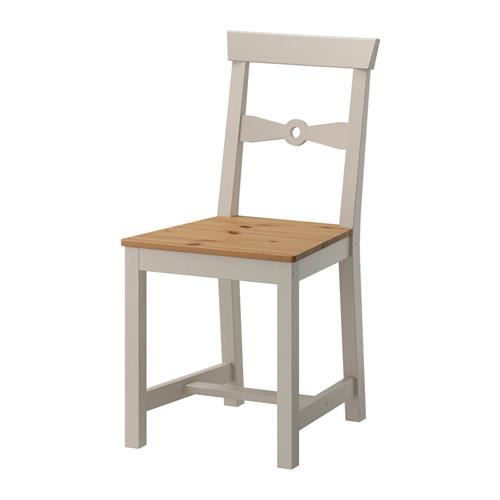chair: (114, 26, 383, 470)
